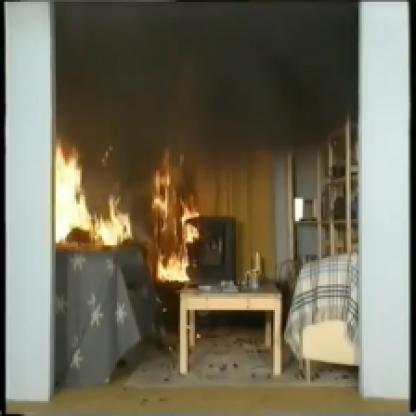fire: (48, 128, 139, 259), (150, 136, 207, 310)
